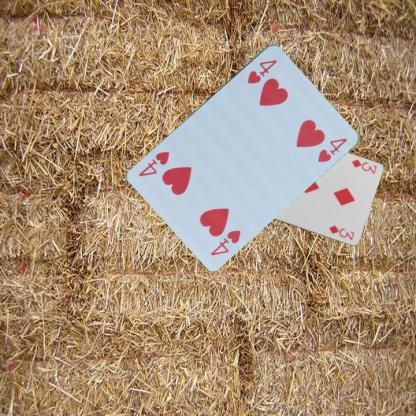3d: (348, 157, 378, 175)
4h: (208, 227, 242, 257), (245, 57, 278, 85)
